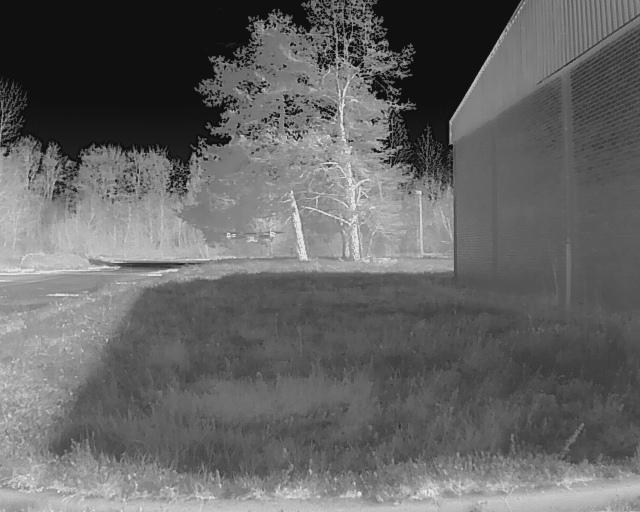drone: (212, 222, 286, 256)
